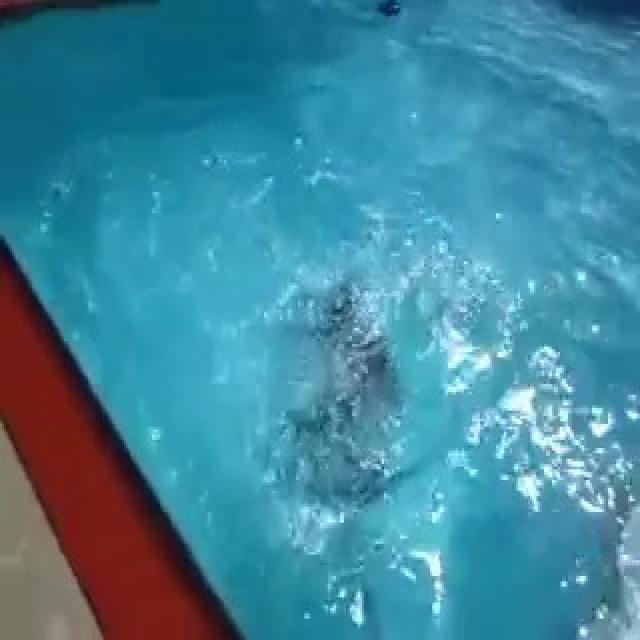drowning: (269, 275, 407, 518)
